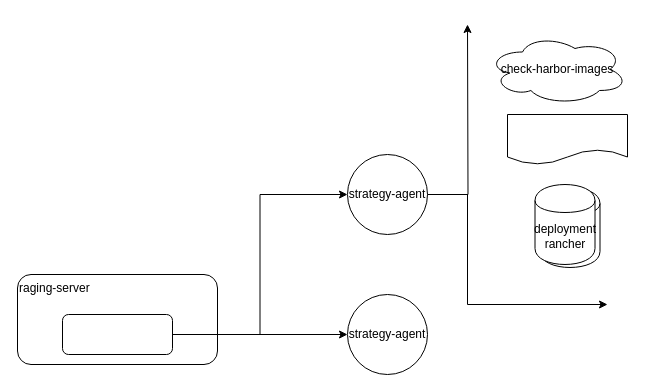
Image size: 645x392. Some labels were removed from this diagram. The centre of each missing label's shape, as x and y in pixels:
"read gitea repo" belongs at (567,139).
"strategy-controller" belongs at (117,334).
